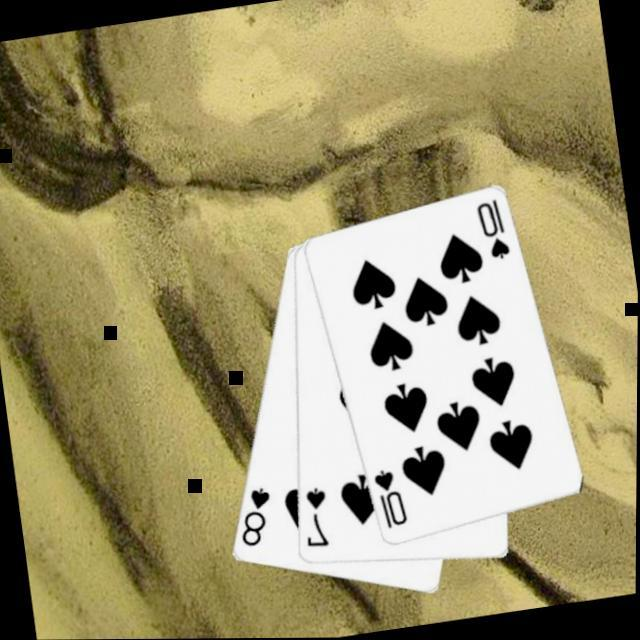10S: (368, 466, 412, 536), (471, 198, 514, 268)
7S: (296, 486, 334, 556)
8S: (231, 485, 280, 554)
